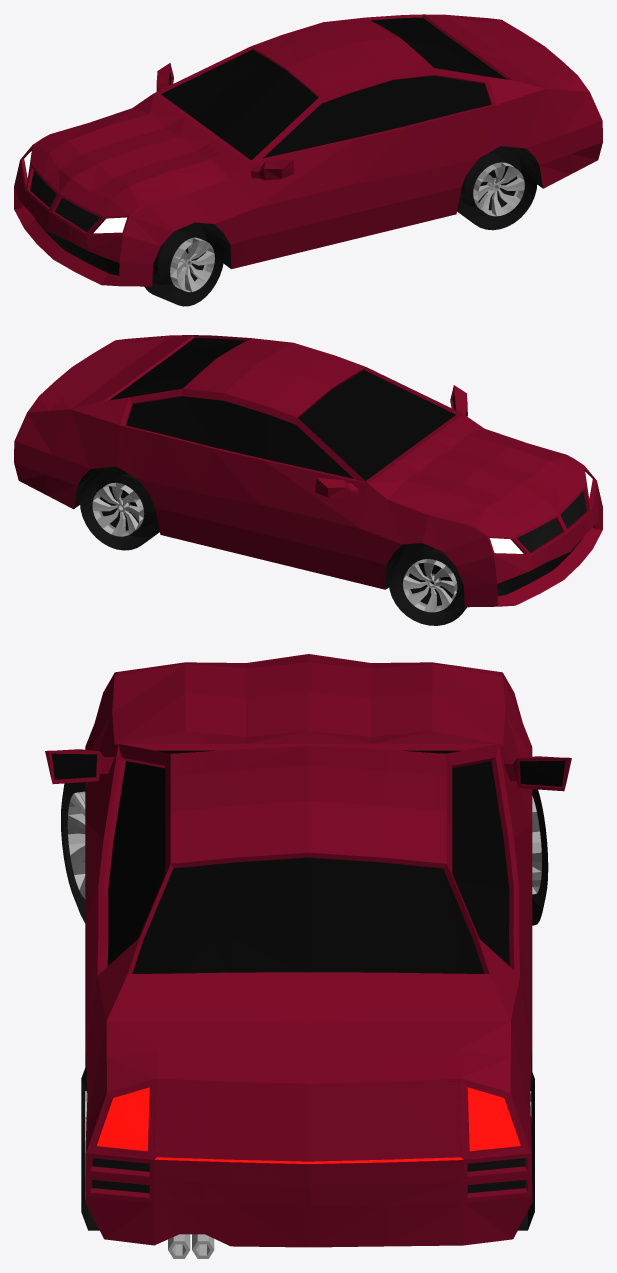
Rendered from low_poly_sport_car.glb.
3 views of the same model, one above another, from view 1: azimuth 30°, elevation 25°; view 2: azimuth 150°, elevation 25°; view 3: azimuth 270°, elevation 25° (orthographic). The views are drawn at different scales.
Parts seen in each view (by area): view 1: car_0, wheel 2_3, wheel 3_1; view 2: car_0, wheel 4_4, wheel 1_2; view 3: car_0, wheel 3_1, wheel 4_4, wheel 2_3.
Boxes of the visible parts, box(x1,y1,x2,y2) form: car_0: box(14, 14, 602, 286); wheel 2_3: box(457, 147, 537, 230); wheel 3_1: box(144, 222, 224, 306); car_0: box(14, 335, 602, 607); wheel 4_4: box(388, 543, 466, 625); wheel 1_2: box(80, 467, 159, 550); car_0: box(45, 654, 571, 1258); wheel 3_1: box(61, 782, 85, 922); wheel 4_4: box(532, 789, 548, 925); wheel 2_3: box(81, 1065, 99, 1230).
Bounding box in the file's own units: 17.89 × 5.62 × 7.98.
